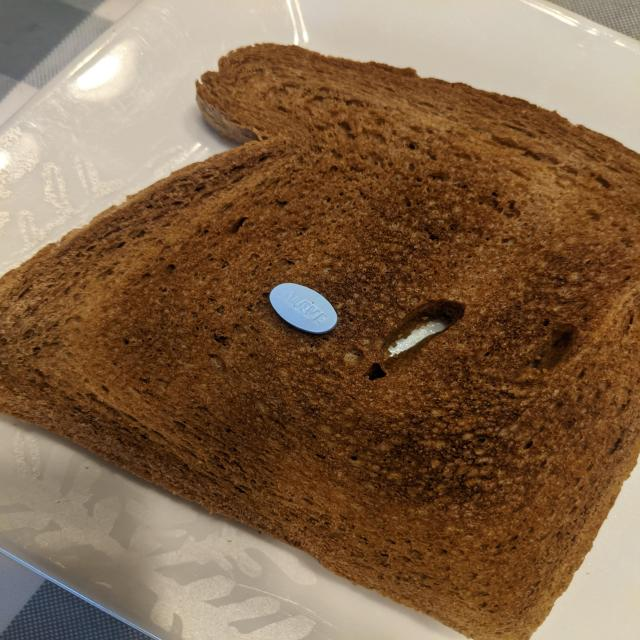non-organic waste: (268, 282, 338, 335)
